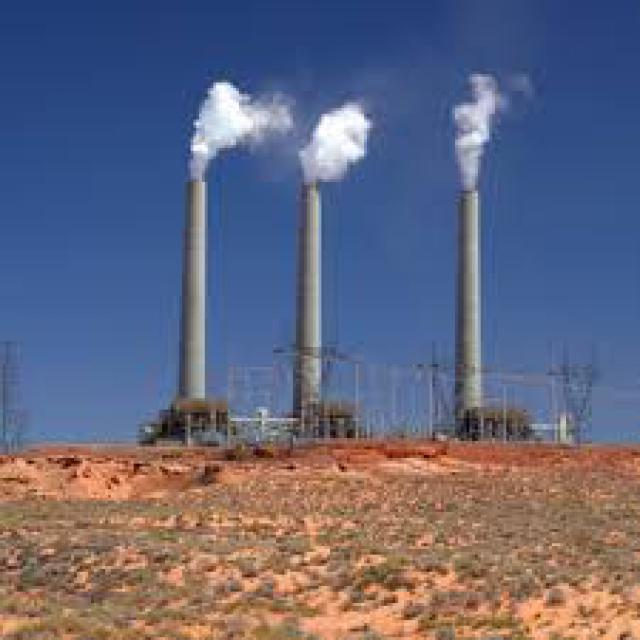Smoke: (426, 56, 522, 189), (158, 77, 252, 192), (285, 76, 369, 192)
